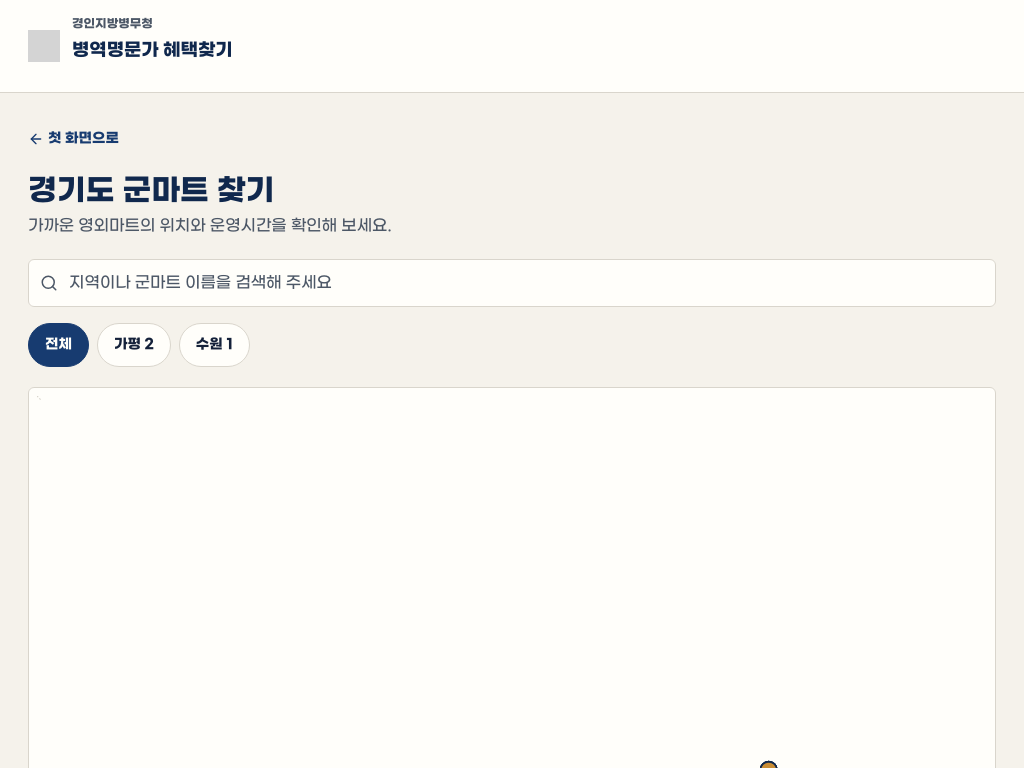
Scenario: PxFinderPage › 검색어와 지역 필터가 동시에 적용되고 결과가 동기화된다
Click the button "가평 2". click: [134, 345]
box: [97,323,171,367]
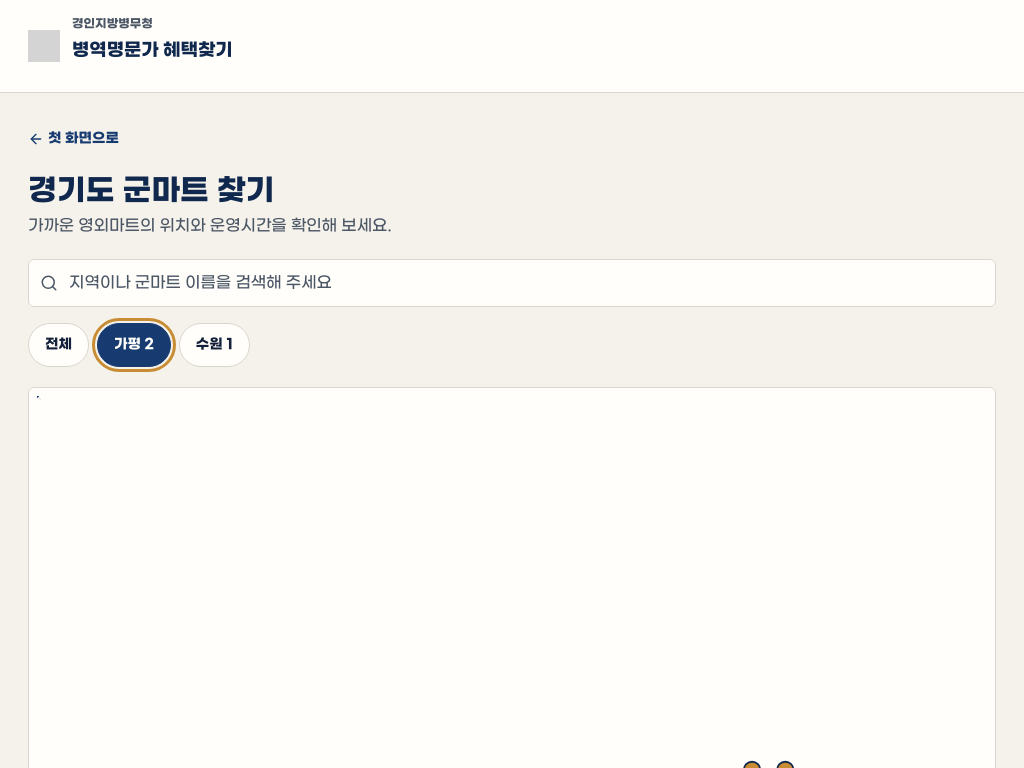
Type "맹호" into the search field named "지역이나 군마트 이름 검색". click: [512, 283]
box: [28,259,996,307]
(page scrolled)
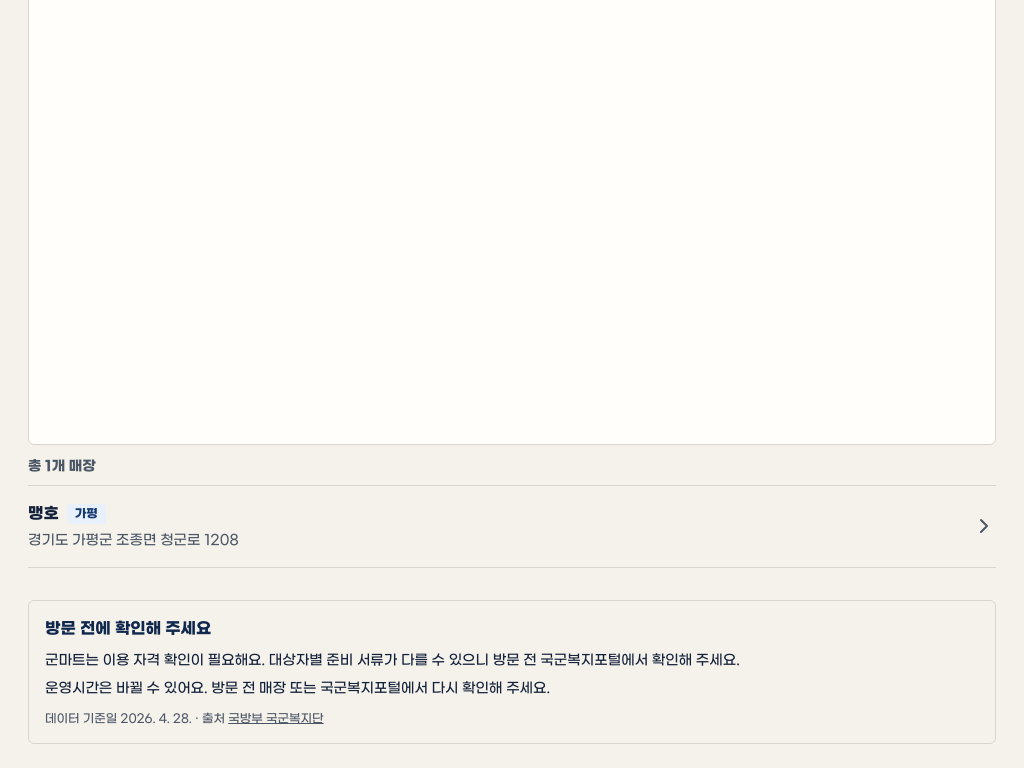
Check: the link "맹호 가평 경기도 가평군 조종면 청군로 1208" is shown, box [27,504,996,549]
Check: the text "총 1개 매장" is shown, box [28,458,96,475]
